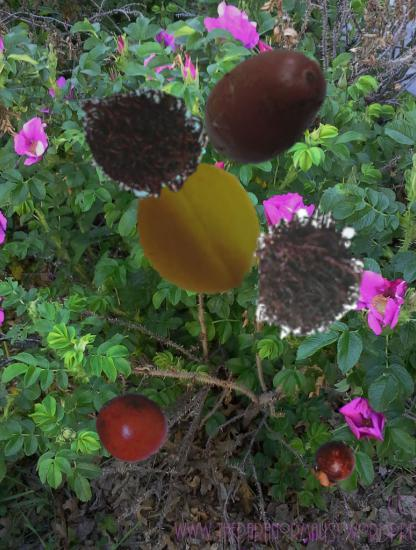Mangostan: (305, 439, 358, 492)
Peach: (129, 160, 268, 299)
Pomegranate: (95, 390, 170, 465)
Potato: (197, 37, 333, 173)
Rambutan: (235, 199, 381, 345), (68, 71, 206, 209)
